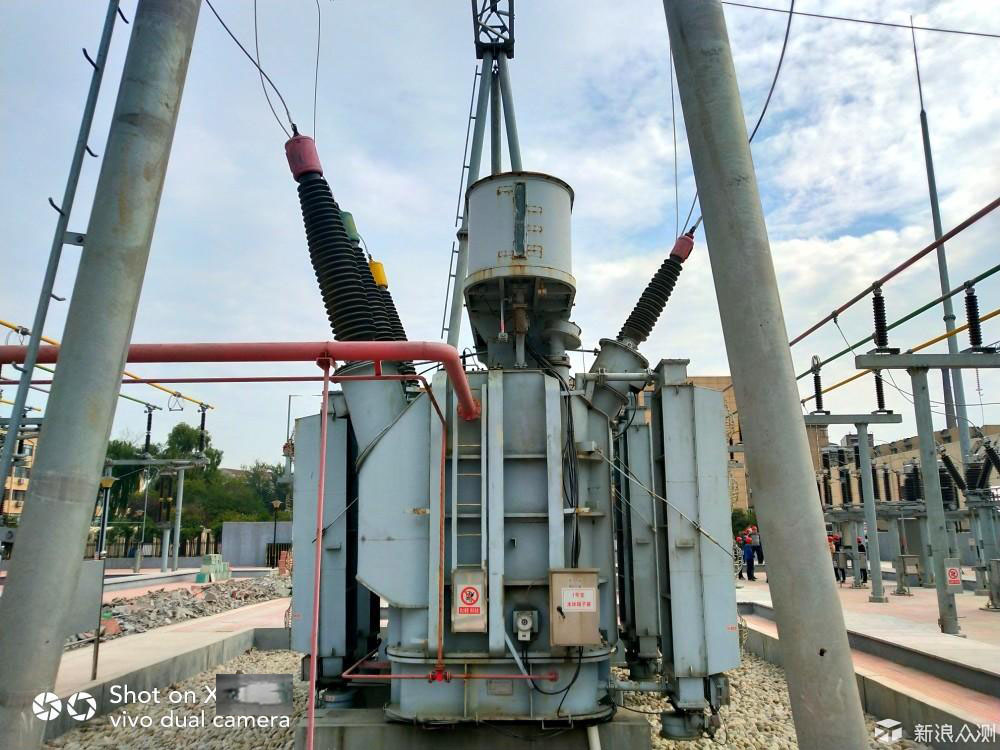oil: (220, 672, 293, 717)
